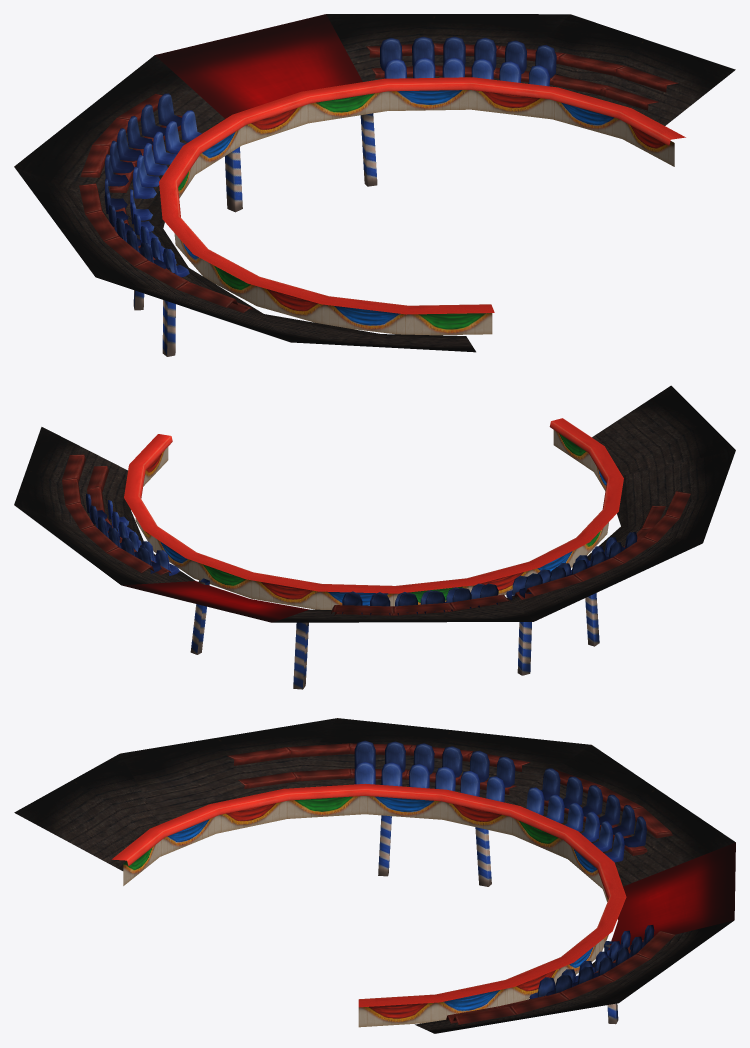
The model's file is circus_second_floor.FBX.
The picture shows the model from 3 angles, top to bottom: view 1: azimuth 30°, elevation 25°; view 2: azimuth 150°, elevation 25°; view 3: azimuth 270°, elevation 25°; orthographic projection. The views are drawn at different scales.
Parts seen in each view (by area): view 1: polySurface2; view 2: polySurface2; view 3: polySurface2.
Part boxes in pixels (bbox=[...]): polySurface2: bbox=[14, 14, 735, 356]; polySurface2: bbox=[14, 385, 735, 689]; polySurface2: bbox=[14, 718, 735, 1033].
Bounding box in the file's own units: 28.27 × 4.95 × 27.26.
